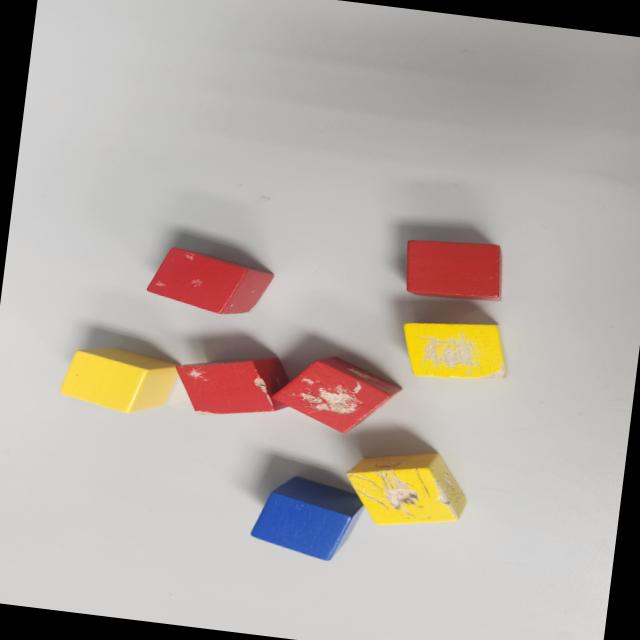blue: (248, 469, 368, 564)
broken: (339, 442, 473, 536), (266, 350, 403, 440), (144, 244, 276, 320), (168, 346, 290, 424), (398, 314, 512, 386)
red: (400, 233, 508, 305)
yellow: (56, 340, 182, 420)
